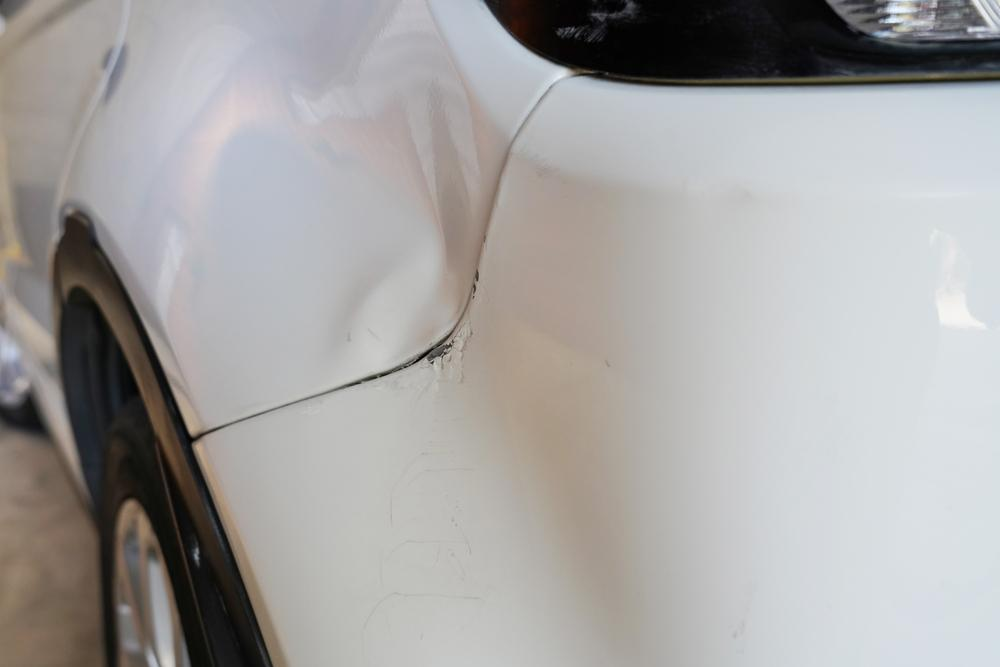dent: (348, 223, 467, 368)
